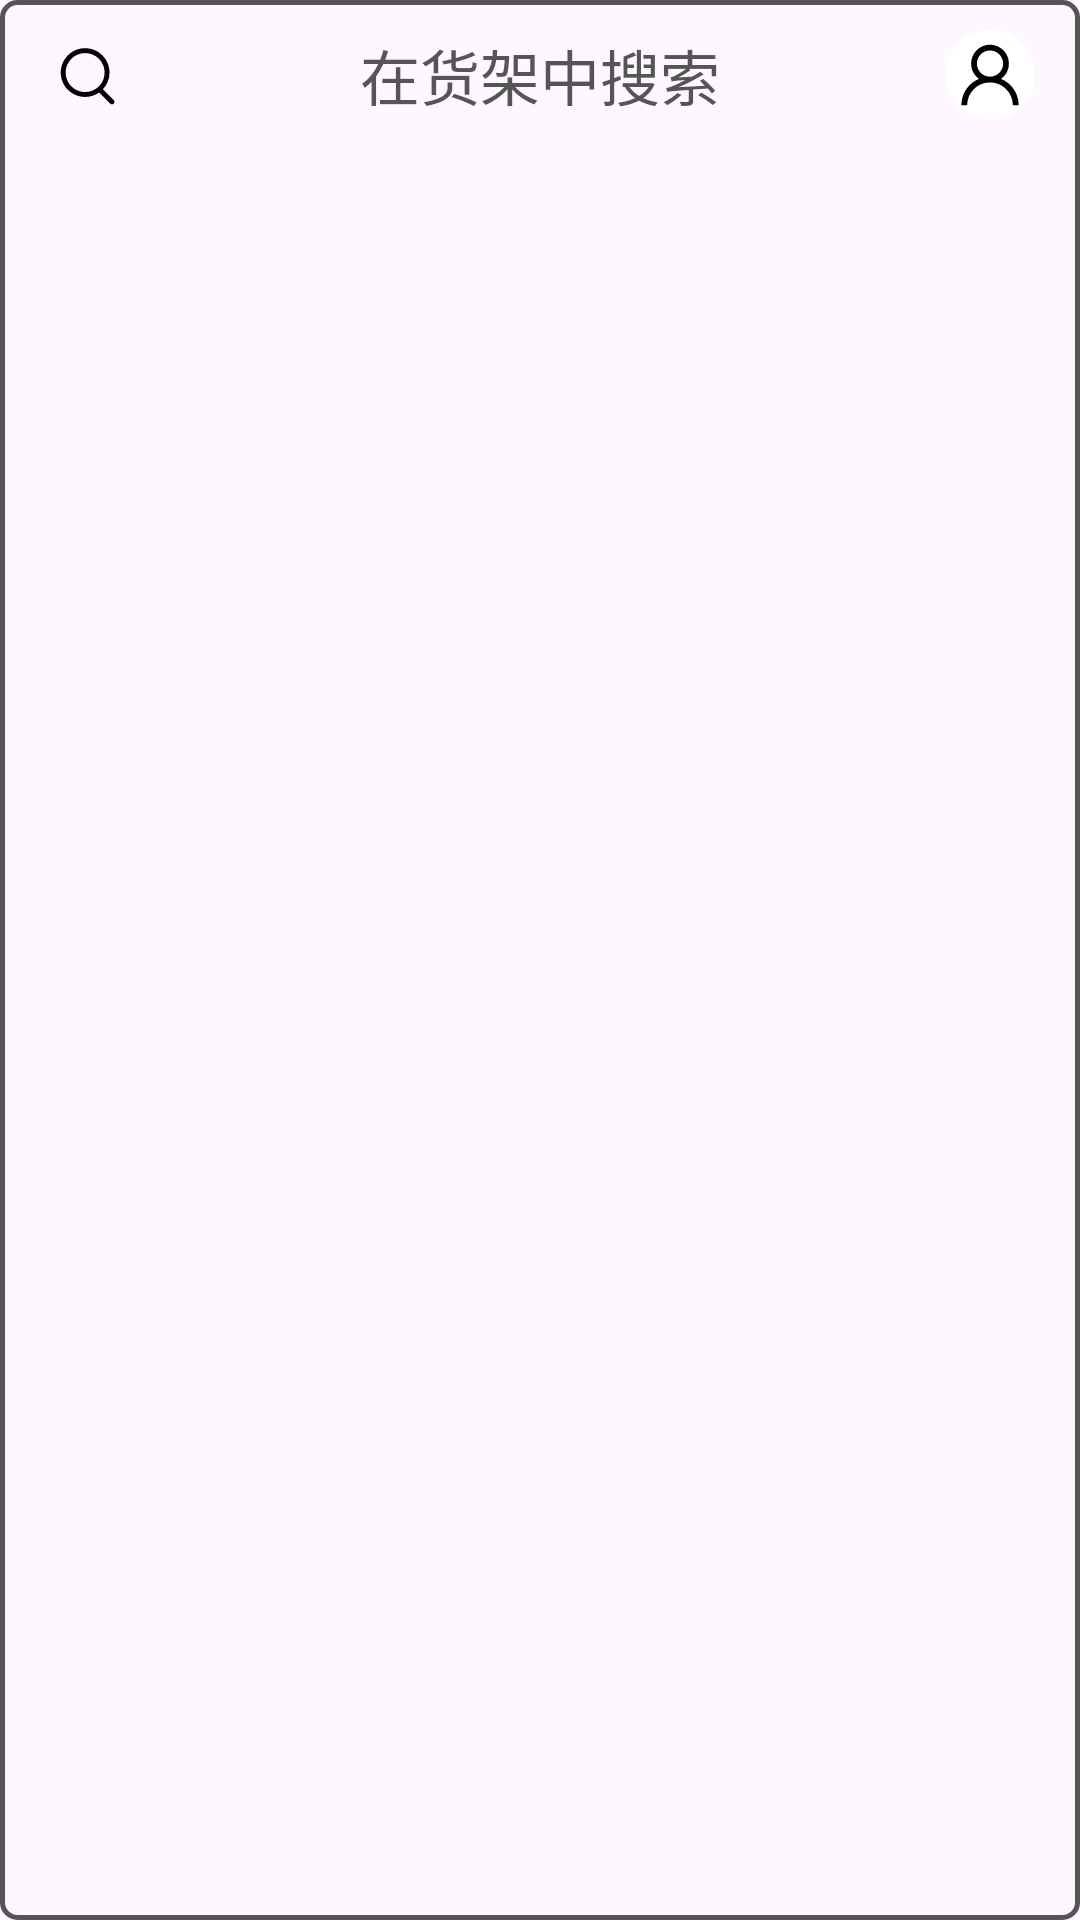

Icon bounding boxes for this 1080x1920 phone screenshot, format (x1, y1, x2, y2):
个人信息: (961, 44, 1019, 106)
